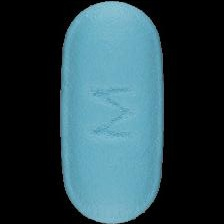52125-905: (0, 0, 224, 224)
